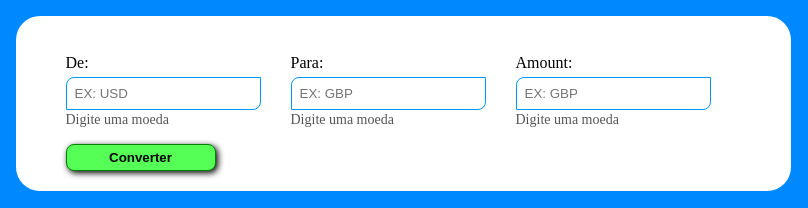
Test: deve reinderizar o elemento result
Type "USD" into the field labelled "De:" at [163, 94], box [66,77,260,110]
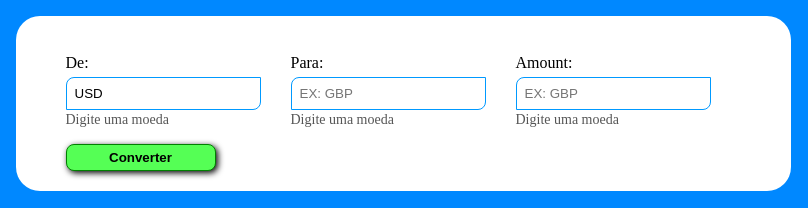
Type "GBP" into the field labelled "Para:" at [388, 94], box [290,77,486,110]
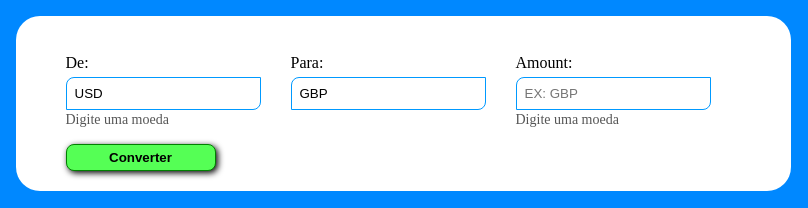
Type "1000" into the field labelled "Amount:" at [613, 94], box [516,77,710,110]
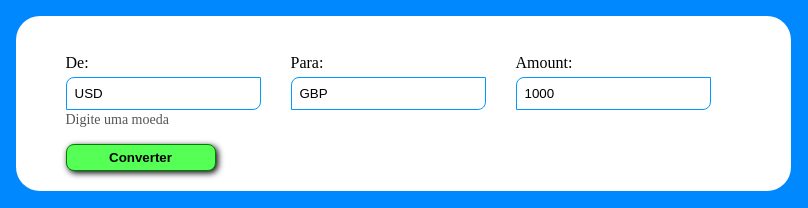
Click the button "Converter" at [140, 158], box [66,144,216,171]
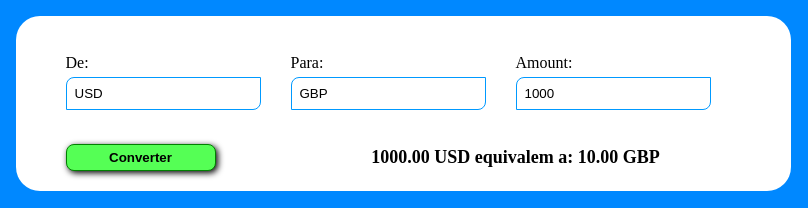
Result: the text "1000.00 USD equivalem a: 10.00 GBP" is shown at [371,147,660,168]
